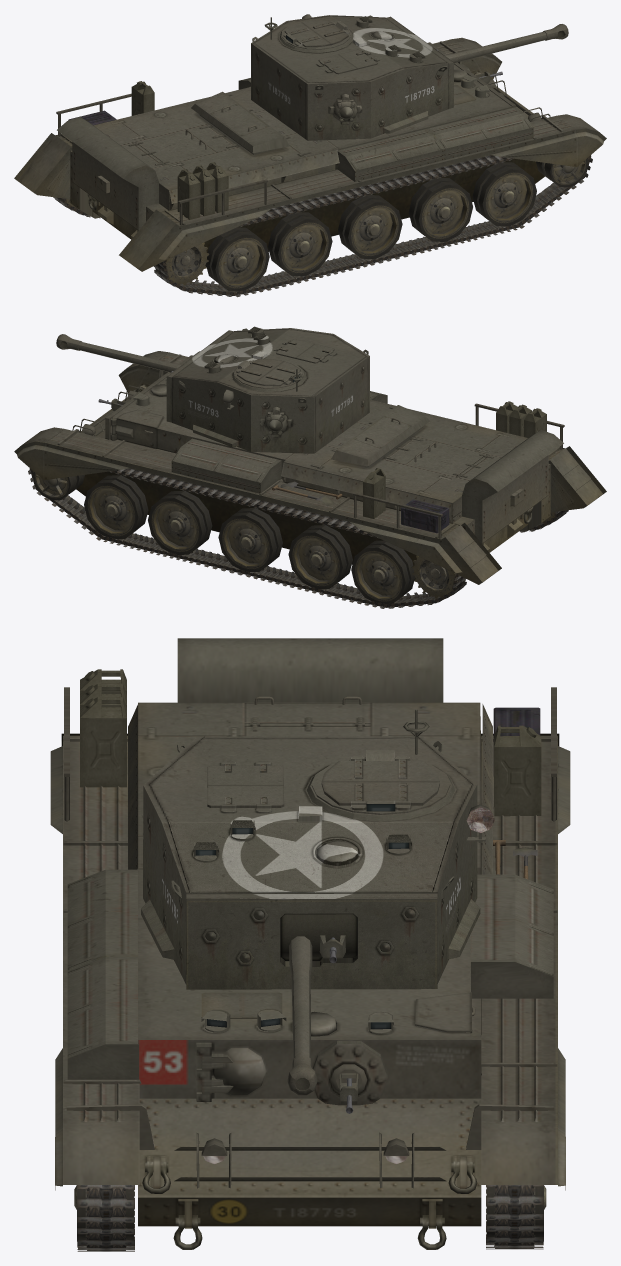
The model's file is cromwell.glb.
3 renders of one model, top to bottom at view 1: azimuth 30°, elevation 25°; view 2: azimuth 150°, elevation 25°; view 3: azimuth 270°, elevation 25°, orthographic. The views are drawn at different scales.
Visible parts, largest first — view 1: hull.001, turret.001, guard, track.001, gear8, wheel3, wheel9, wheel5, wheel7, wheel11, weapon.001, wheel13 (+9 smaller); view 2: hull.001, turret.001, guard, track2, gear8, wheel10, wheel8, wheel6, wheel4, wheel12, hatch4.001, weapon.001 (+11 smaller); view 3: hull.001, turret.001, guard, gear8, gear11, gear3, track.001, weapon.001, track2, mount.001, hatch.001, hatchb (+6 smaller).
Boxes of the visible parts, x1,y1,x2,y2 form: hull.001: [57, 42, 550, 266]; turret.001: [251, 14, 453, 140]; guard: [14, 37, 606, 271]; track.001: [153, 155, 592, 297]; gear8: [238, 78, 533, 181]; wheel3: [472, 162, 536, 226]; wheel9: [268, 212, 332, 276]; wheel5: [408, 177, 472, 241]; wheel7: [338, 195, 402, 259]; wheel11: [206, 227, 269, 291]; weapon.001: [444, 24, 568, 63]; wheel13: [163, 242, 209, 285]; hull.001: [72, 355, 563, 579]; turret.001: [166, 326, 369, 453]; guard: [14, 351, 606, 584]; track2: [28, 468, 466, 608]; gear8: [171, 351, 387, 493]; wheel10: [288, 525, 352, 589]; wheel8: [218, 508, 282, 572]; wheel6: [148, 490, 212, 554]; wheel4: [84, 475, 148, 539]; wheel12: [351, 540, 414, 604]; hatch4.001: [110, 409, 163, 448]; weapon.001: [56, 334, 181, 372]; hull.001: [128, 638, 492, 1249]; turret.001: [141, 709, 490, 989]; guard: [50, 687, 570, 1190]; gear8: [67, 869, 553, 1079]; gear11: [494, 725, 541, 816]; gear3: [80, 697, 126, 787]; track.001: [77, 1185, 134, 1251]; weapon.001: [287, 936, 317, 1095]; track2: [486, 1185, 543, 1249]; mount.001: [280, 914, 357, 957]; hatch.001: [321, 782, 439, 805]; hatchb: [321, 759, 439, 781].
Size of the model in its own units: 6.81 by 2.54 by 3.14.
5 materials, 5 textured.
